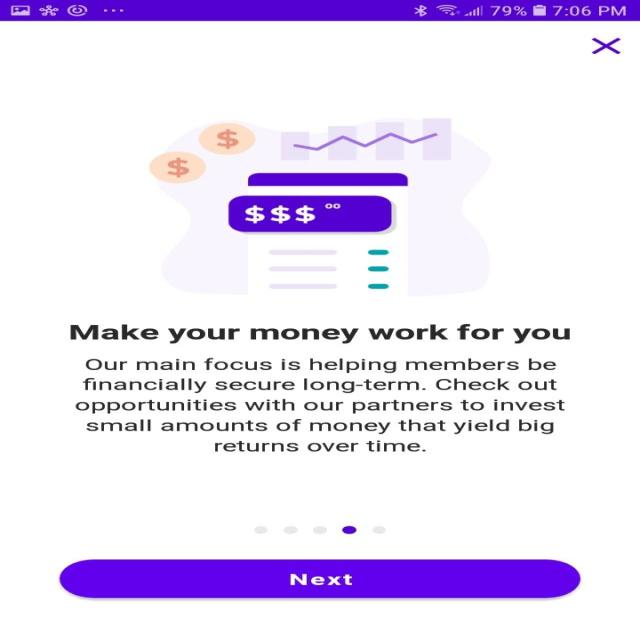Icon: (590, 37, 620, 54)
Image: (148, 118, 490, 296)
Text: (74, 358, 564, 452), (69, 324, 570, 343)
TextButton: (59, 558, 580, 598)
